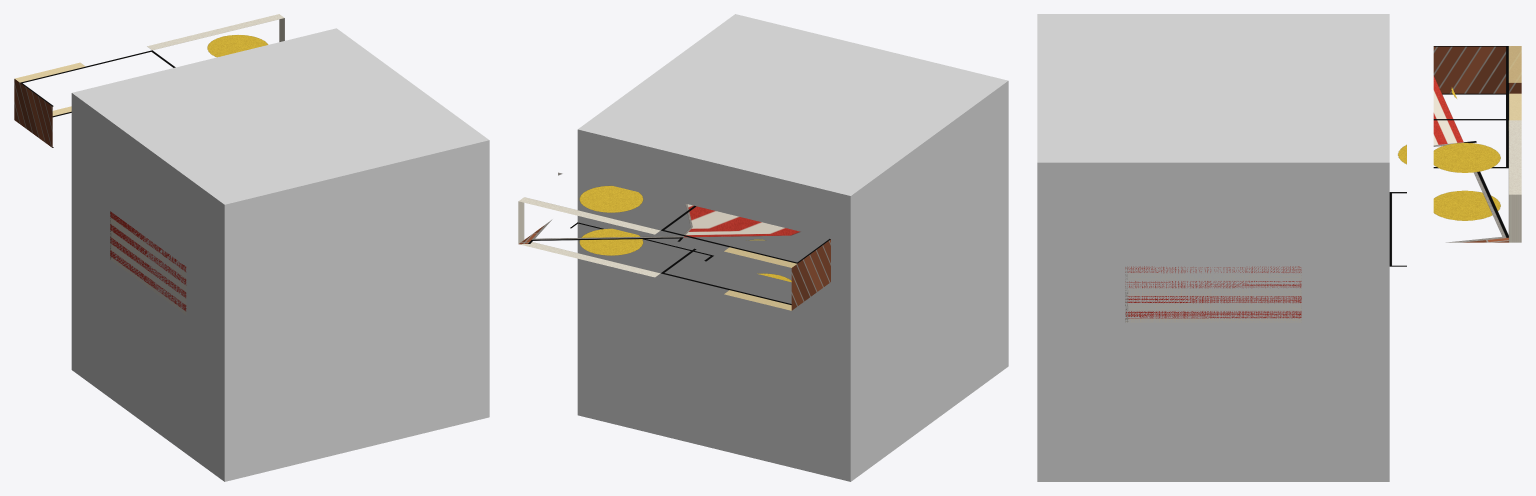
Rendered from depot_custom.glb.
3 views of the same model, side by side, from view 1: azimuth 30°, elevation 25°; view 2: azimuth 150°, elevation 25°; view 3: azimuth 270°, elevation 25° (orthographic). The views are drawn at different scales.
Parts seen in each view (by area): view 1: Cube, depot_custom__bridge_xb, depot_custom__wall_3_xb; view 2: Cube, depot_custom__bridge_xb, depot_custom__bridge_xf; view 3: Cube, depot_custom__bridge_xb, depot_custom__wall_1_xb, depot_custom__bridge_xf.
Part boxes in pixels (x1,y1,x2,y2): Cube: [71, 28, 489, 481]; depot_custom__bridge_xb: [14, 14, 284, 147]; depot_custom__wall_3_xb: [110, 211, 186, 313]; Cube: [577, 14, 1008, 481]; depot_custom__bridge_xb: [518, 172, 830, 310]; depot_custom__bridge_xf: [559, 174, 798, 310]; Cube: [1037, 14, 1389, 481]; depot_custom__bridge_xb: [1433, 46, 1521, 242]; depot_custom__wall_1_xb: [1125, 266, 1301, 322]; depot_custom__bridge_xf: [1442, 46, 1521, 236].
Bounding box in the file's own units: 2 × 2 × 2.75.
2 materials, 1 textured.
